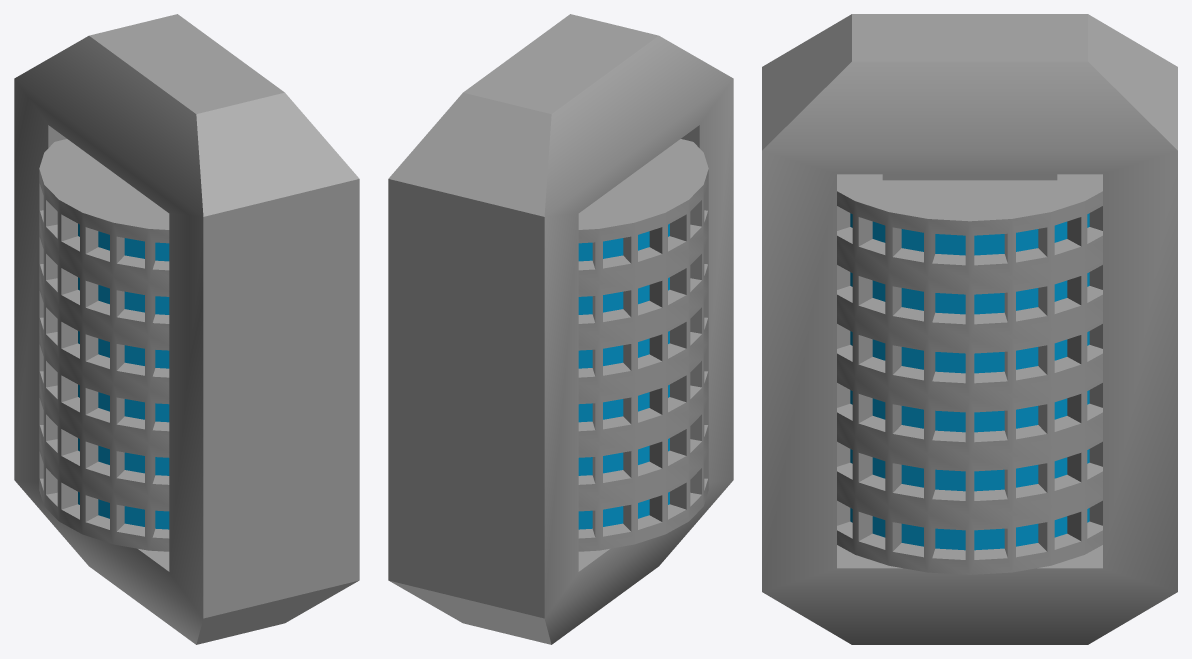
Rendered from Joe_Item_EnergyAmmo.fbx.
The picture shows the model from 3 angles, left to right: view 1: azimuth 30°, elevation 25°; view 2: azimuth 150°, elevation 25°; view 3: azimuth 270°, elevation 25°; orthographic projection. The views are drawn at different scales.
Parts seen in each view (by area): view 1: pCube270; view 2: pCube270; view 3: pCube270.
Boxes of the visible parts, bbox=[...] form: pCube270: bbox=[14, 14, 359, 644]; pCube270: bbox=[388, 14, 733, 644]; pCube270: bbox=[762, 14, 1177, 644].
Size of the model in its own units: 12.36 by 24.5 by 15.82.
